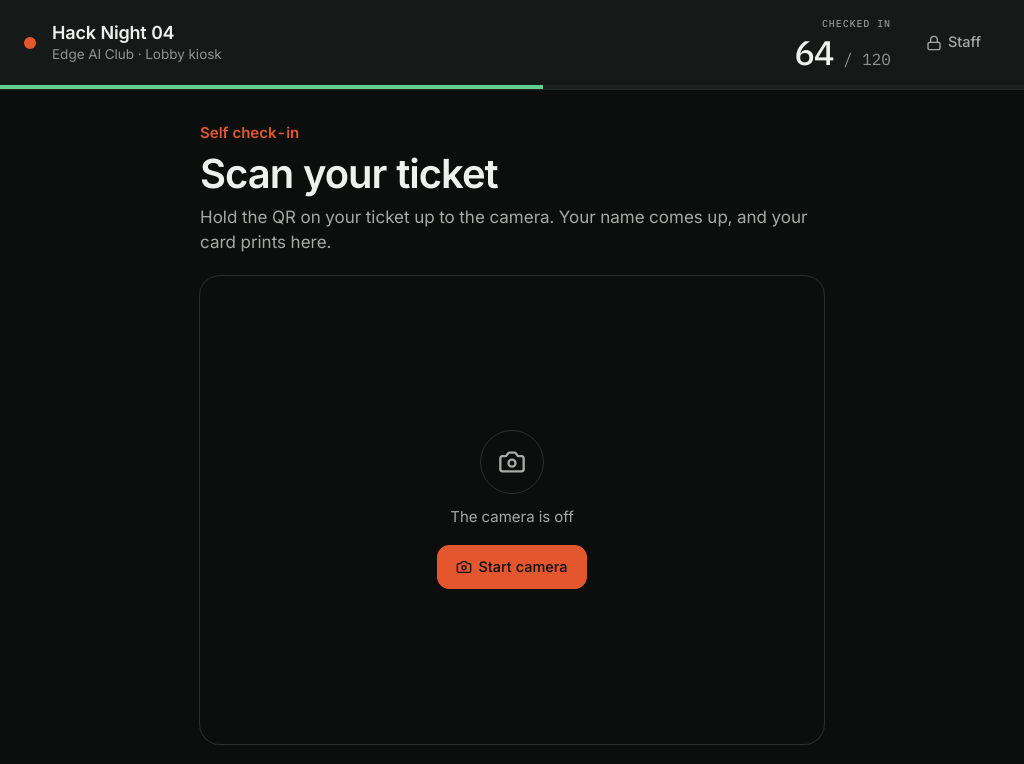
Scenario: the kiosk › says a kiosk locked by wrong PINs plainly, in the PIN dialog
This screenshot has width=1024, height=764.
Click the button "Staff".
click(954, 42)  # box [907, 20, 1000, 64]
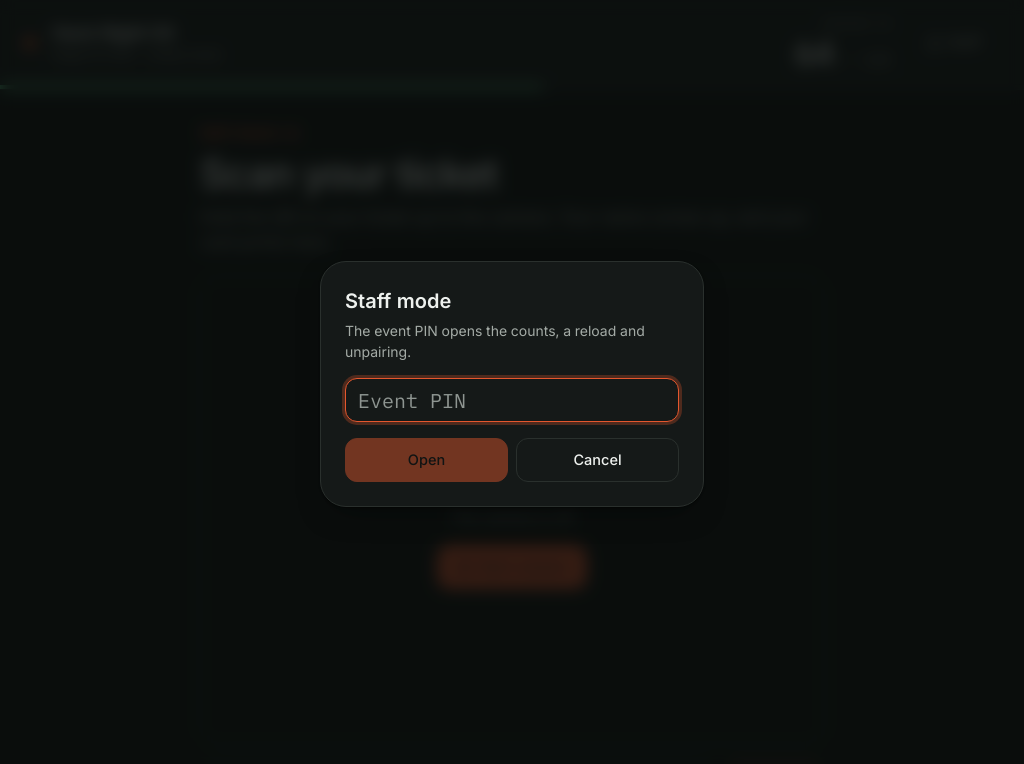
Type "0000" into the password field labelled "Event PIN".
click(512, 400); type("0000")  # box [345, 378, 679, 422]
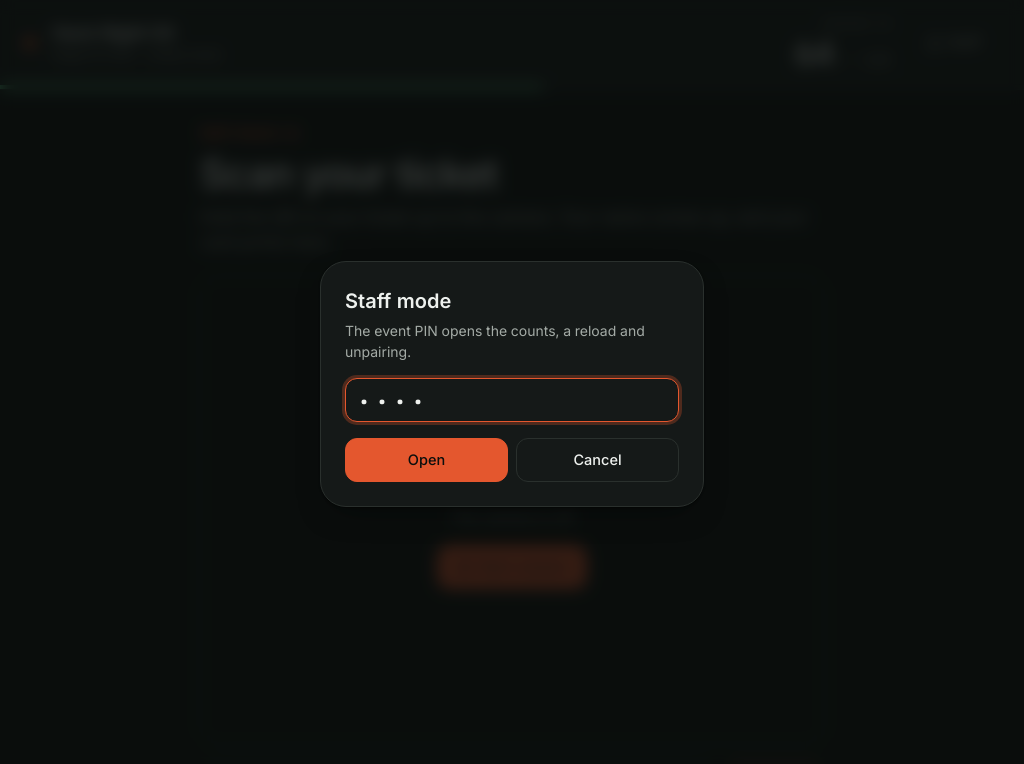
Click the button "Open".
click(426, 460)  # box [345, 438, 508, 482]
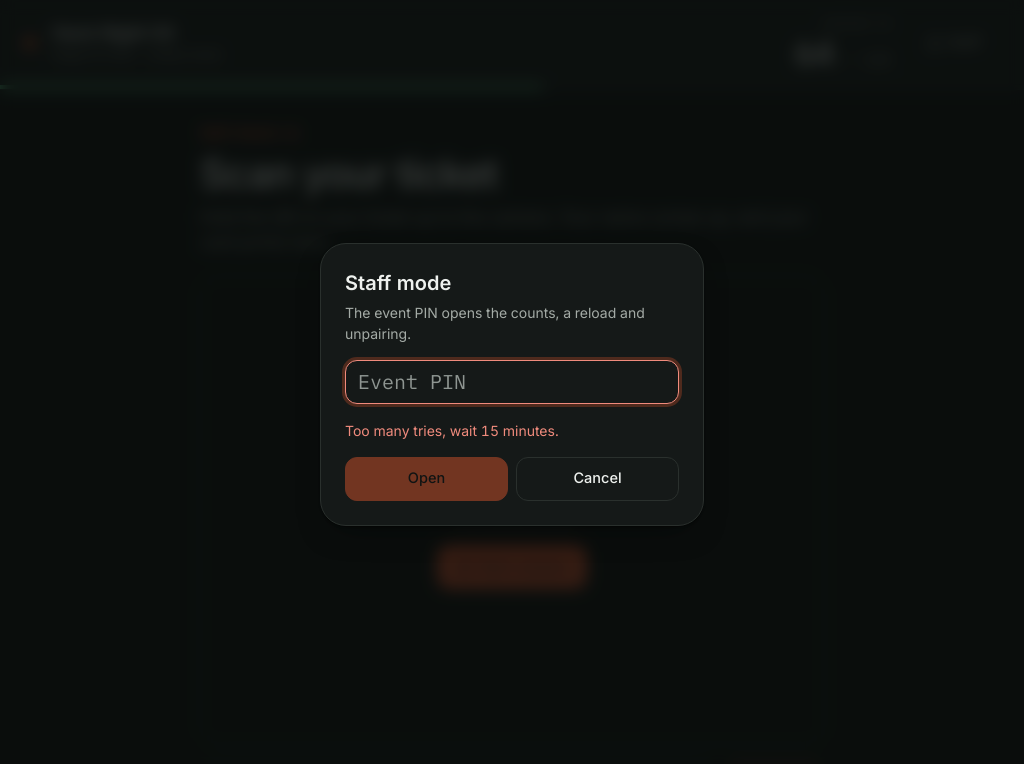
Result: the message reads "Too many tries, wait 15 minutes." at [345, 422, 559, 438]
